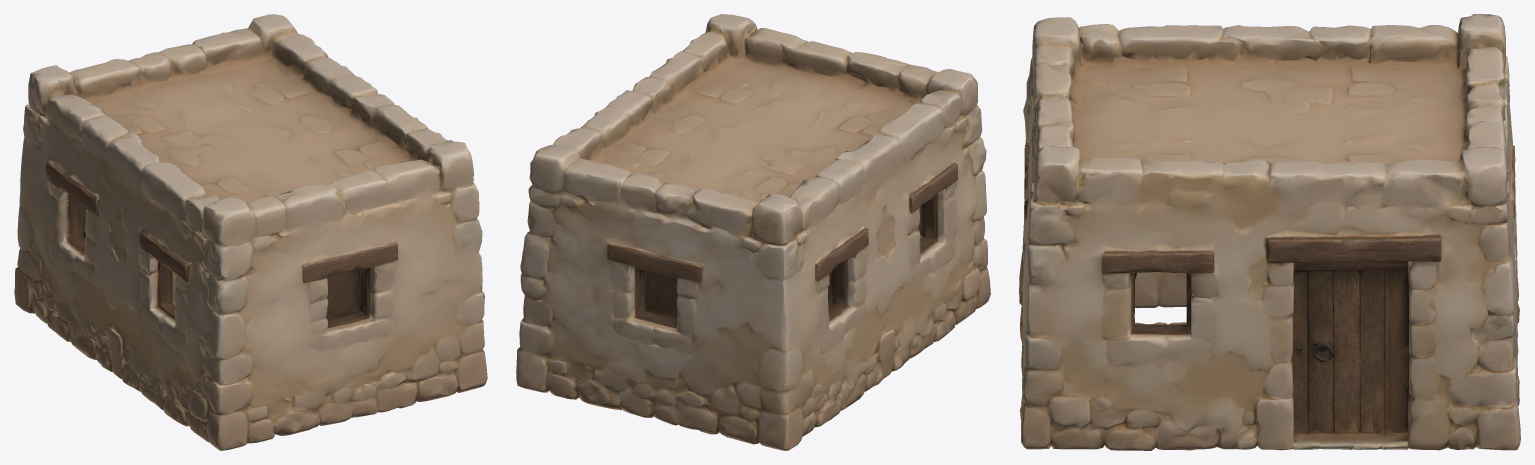
3 renders of one model, left to right at view 1: azimuth 30°, elevation 25°; view 2: azimuth 150°, elevation 25°; view 3: azimuth 270°, elevation 25°, orthographic. The views are drawn at different scales.
Parts seen in each view (by area): view 1: tripo_node_ea9dc221-7ed0-4d46-8b67-2300c3f712eb; view 2: tripo_node_ea9dc221-7ed0-4d46-8b67-2300c3f712eb; view 3: tripo_node_ea9dc221-7ed0-4d46-8b67-2300c3f712eb.
Part boxes in pixels (x1,y1,x2,y2): tripo_node_ea9dc221-7ed0-4d46-8b67-2300c3f712eb: (14, 14, 487, 450); tripo_node_ea9dc221-7ed0-4d46-8b67-2300c3f712eb: (516, 14, 990, 450); tripo_node_ea9dc221-7ed0-4d46-8b67-2300c3f712eb: (1019, 14, 1520, 450).
Size of the model in its own units: 0.7677 by 0.6294 by 1.
1 material, 1 textured.
